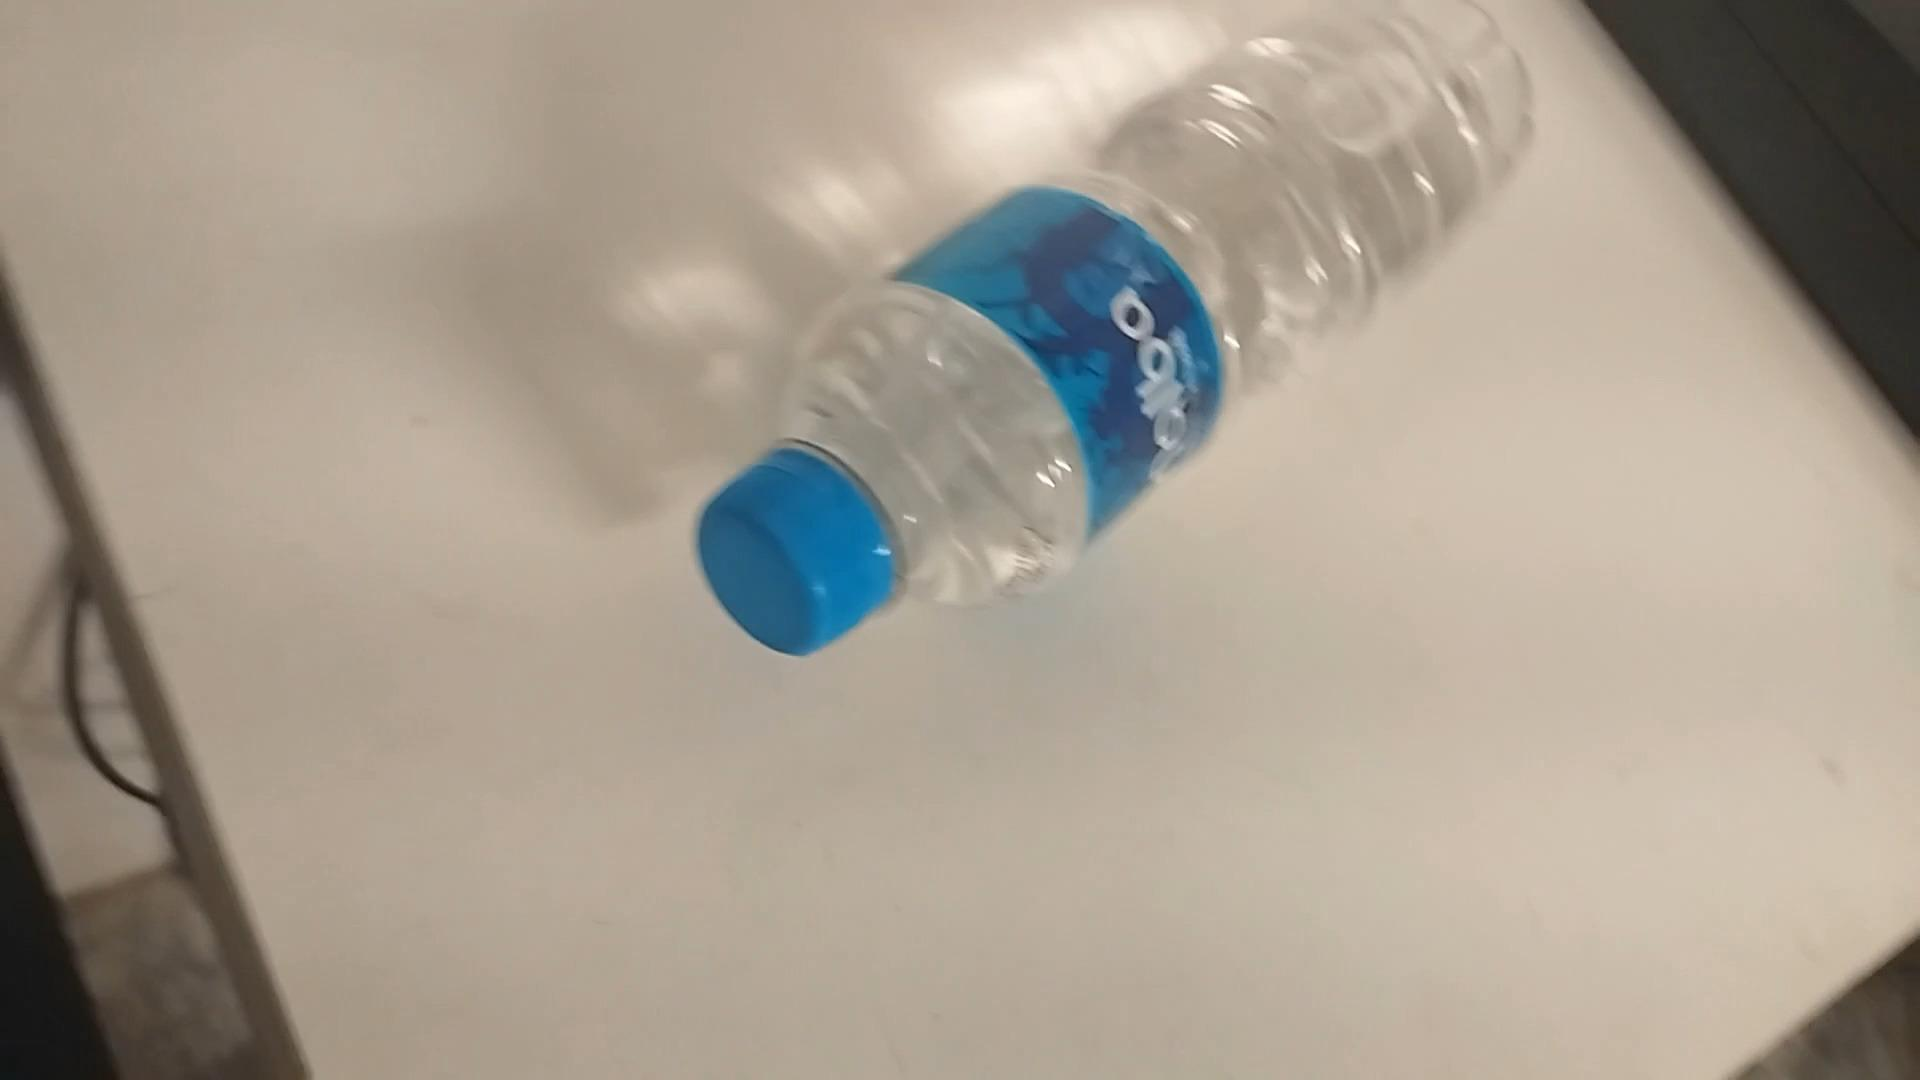agua: (708, 4, 1518, 659)
